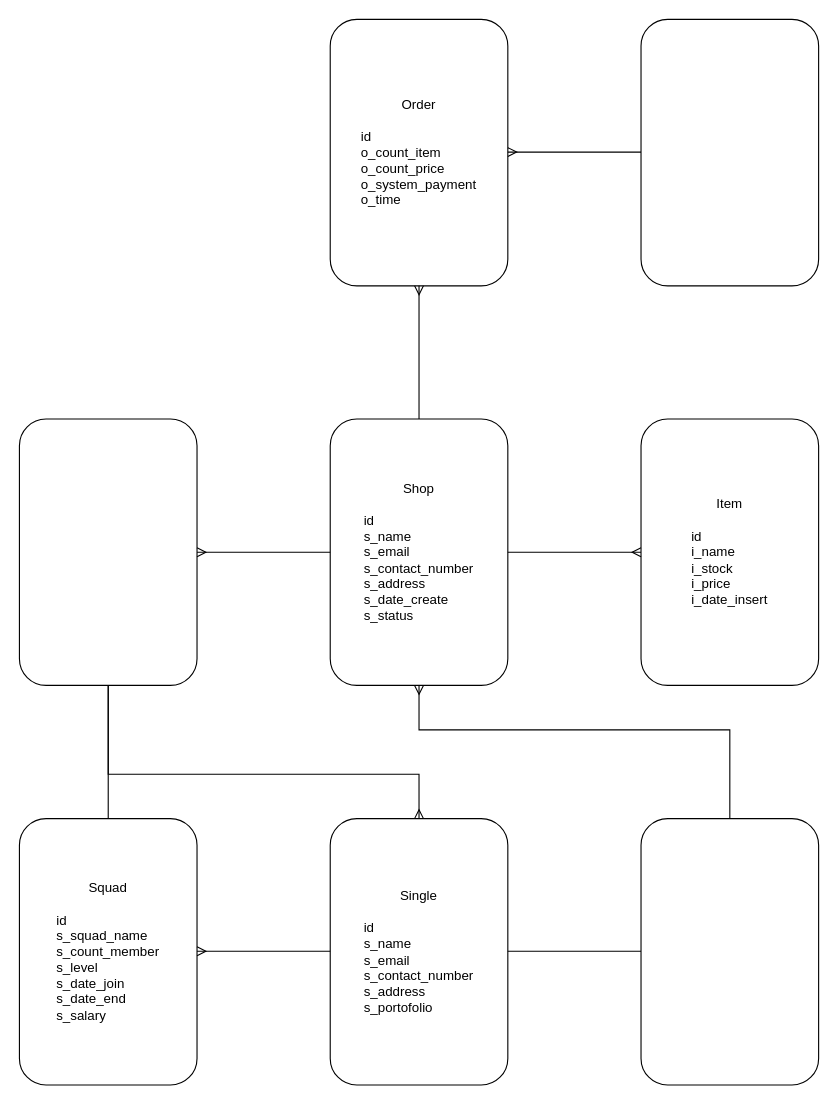
Image size: 838x1104. Some labels were removed from this diagram. The centre of each missing label's shape, as x and y in pixels:
"Basket id b_order_date b_address_destination" belongs at point (729, 152).
"Project id p_name p_description p_date_start p_date_end p_system_pay p_salary" belongs at point (107, 551).
"User id u_name u_email u_contact_number u_address u_male u_date_join u_status" belongs at point (729, 951).
